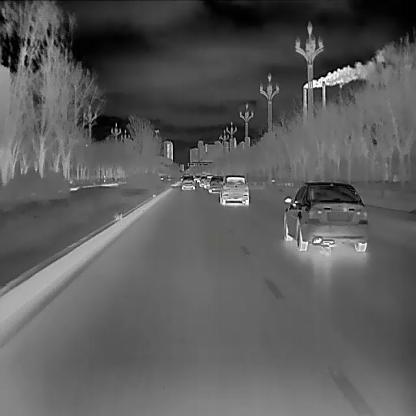car: (282, 178, 368, 252), (219, 174, 248, 204), (207, 173, 224, 193), (178, 175, 194, 190), (202, 176, 214, 187)
